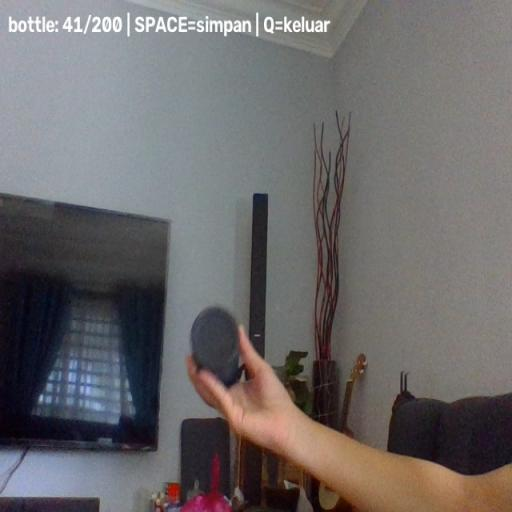Bottle: (190, 305, 243, 386)
